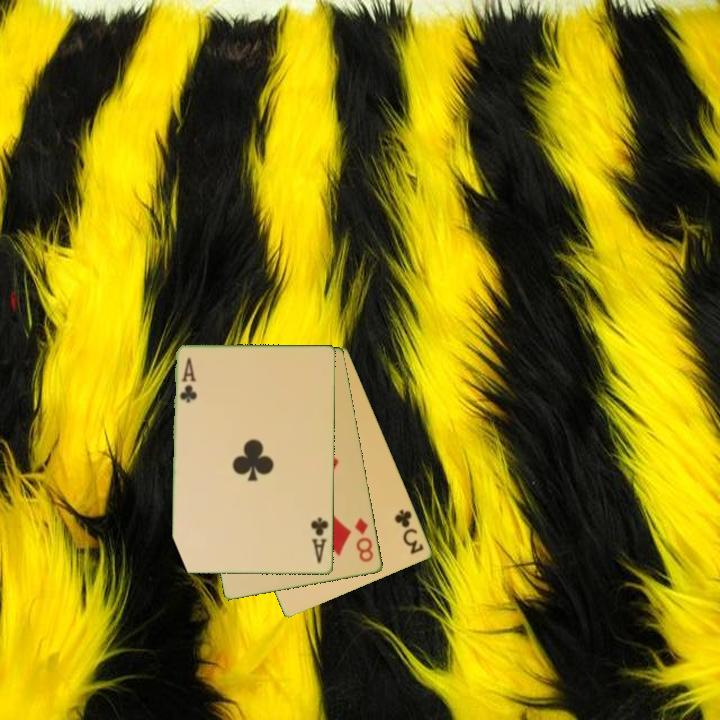3c: (391, 506, 427, 557)
8d: (352, 514, 377, 565)
Ac: (307, 514, 331, 567), (177, 354, 200, 406)
